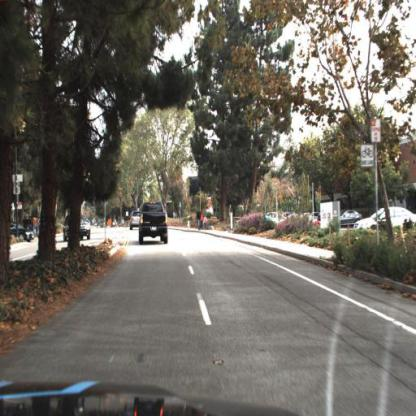car: (354, 204, 416, 238), (138, 201, 169, 245), (63, 214, 93, 242), (3, 220, 36, 242), (338, 209, 364, 230), (128, 208, 143, 231)
pedestrian: (196, 209, 203, 231), (204, 217, 209, 231)
